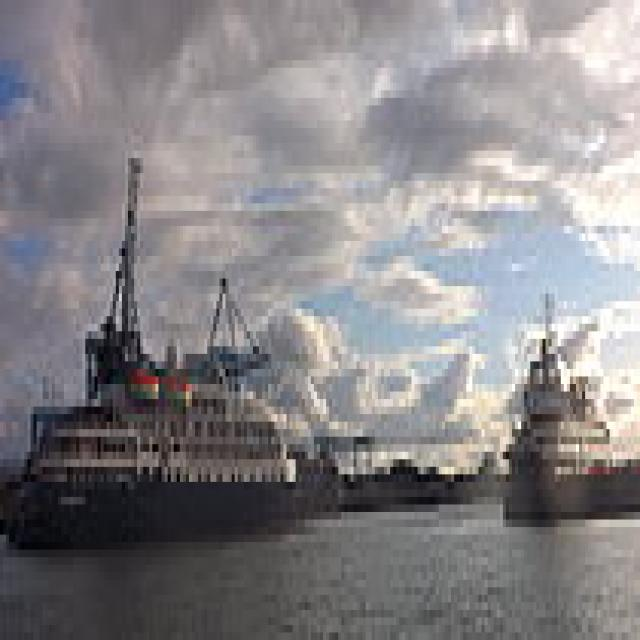Cruise: (9, 338, 299, 534), (503, 279, 609, 512)
